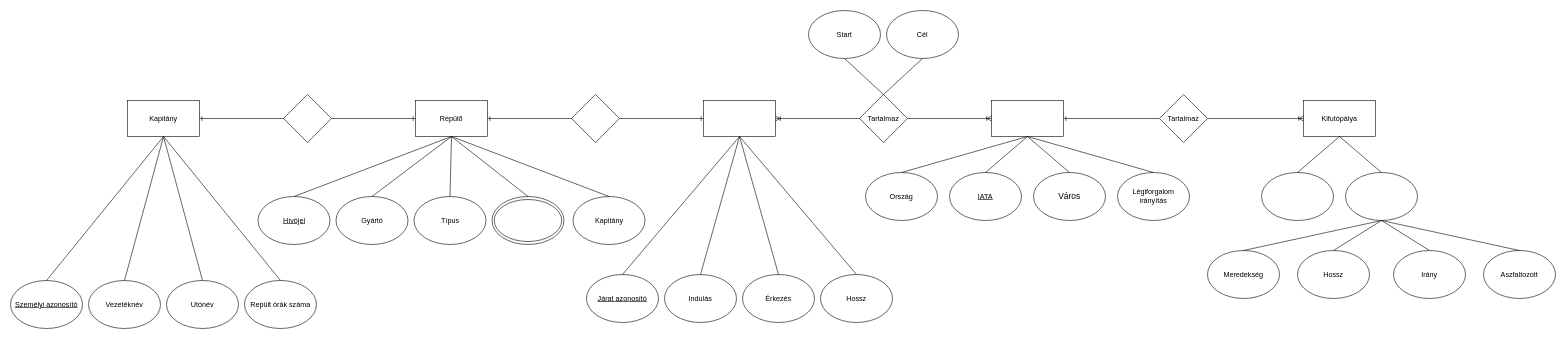
The diagram is 1566 pixels wide and 339 high, and some of its shapes have lost their labels. The shapes that lost their labels are listed below. From the top down, each one's centre as x and y in pixels, then its label:
(x=307, y=118): Vezeti
(x=595, y=118): Repül
(x=739, y=118): Járat
(x=1027, y=118): Reptér
(x=1297, y=196): Kifutópálya azonosító
(x=1381, y=196): Fizikai Paraméterek
(x=528, y=220): Szín
